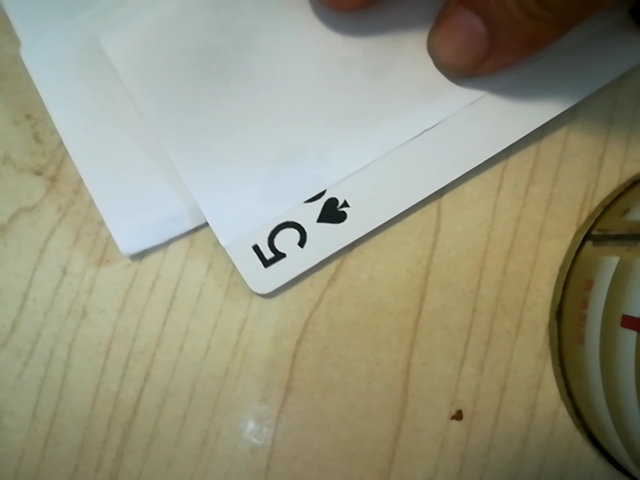ht 5: (240, 182, 366, 281)
